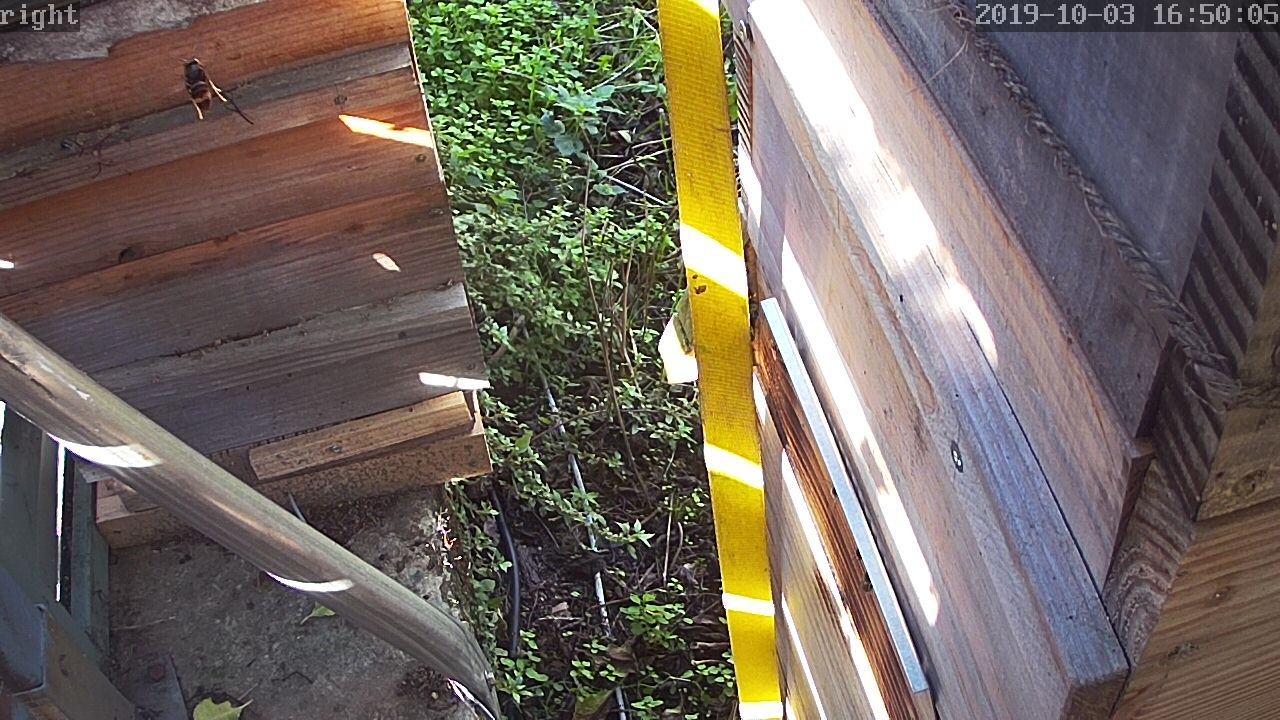hornet: (177, 55, 239, 126)
